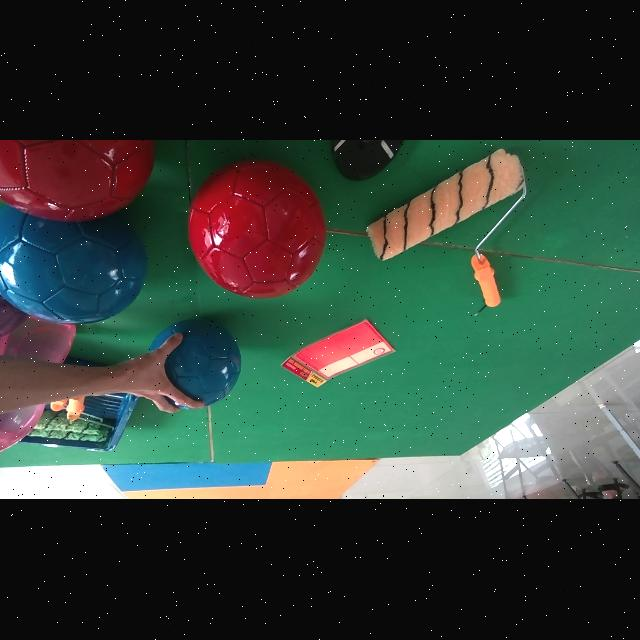B: (0, 206, 147, 324), (151, 320, 242, 406)
P: (0, 296, 28, 338)
R: (189, 160, 326, 299), (0, 140, 154, 222)
